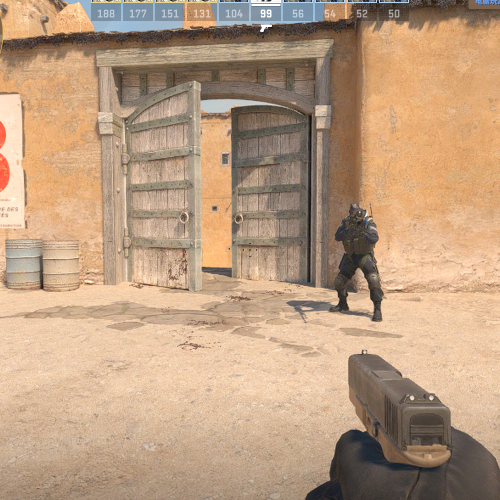ct_body: (331, 204, 383, 322)
ct_head: (348, 204, 364, 223)
